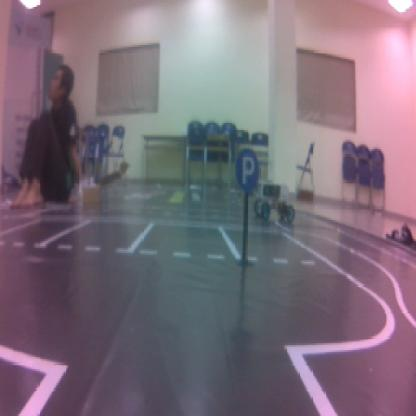chair: (235, 150, 259, 192)
